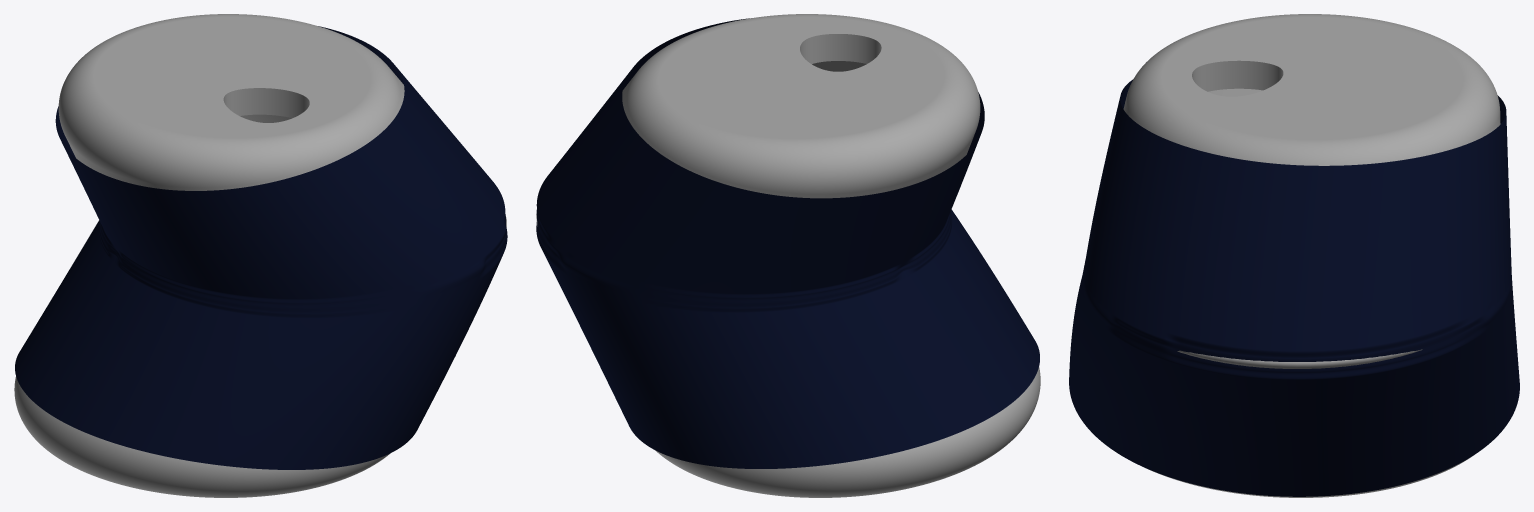
Rendered from LON MOP.fbx.
The picture shows the model from 3 angles, left to right: view 1: azimuth 30°, elevation 25°; view 2: azimuth 150°, elevation 25°; view 3: azimuth 270°, elevation 25°; orthographic projection. The views are drawn at different scales.
Visible parts, largest first — view 1: lon meo (×2); view 2: lon meo (×2); view 3: lon meo (×2).
Part boxes in pixels (bbox=[...]): lon meo (×2): bbox=[14, 14, 507, 497]; lon meo (×2): bbox=[536, 14, 1040, 497]; lon meo (×2): bbox=[1069, 14, 1519, 497].
Size of the model in its own units: 86.14 by 63.62 by 73.12.
